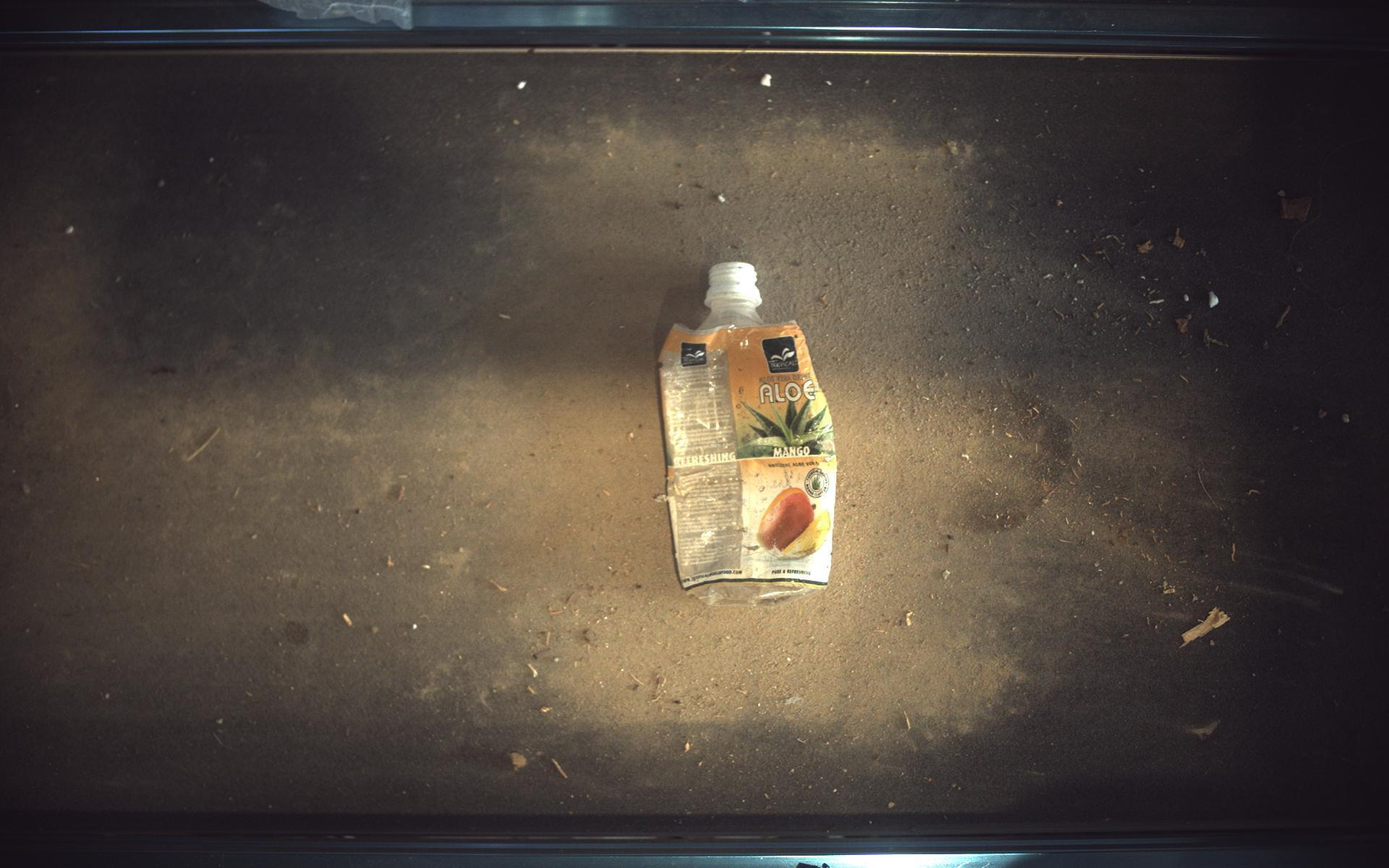general_w: (660, 262, 838, 606)
